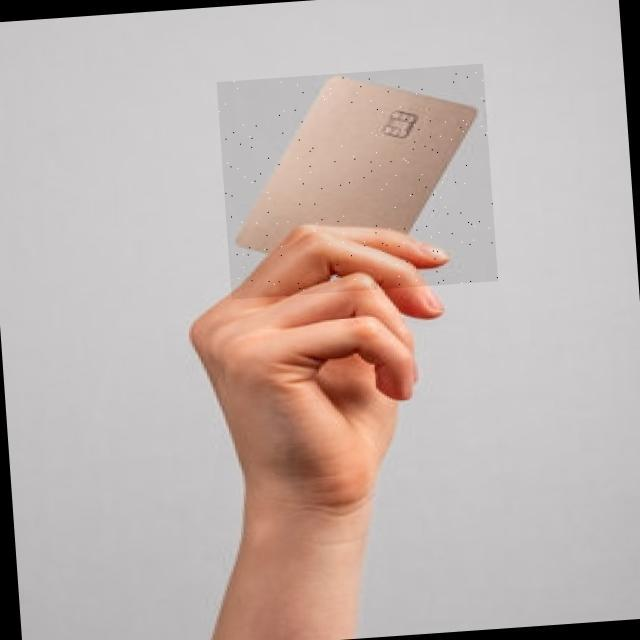payment_card: (215, 64, 498, 295)
